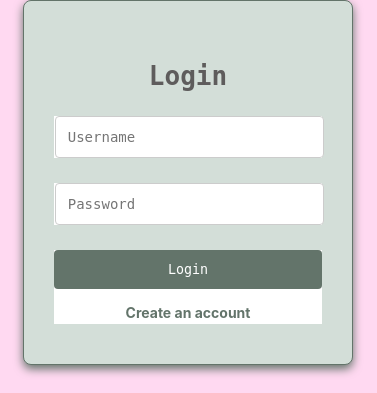
Test case: Login Component › shows username error when username is missing
The image size is (377, 393).
Step 1. Click the button "Login" → coordinates (188, 270), box [54, 250, 322, 289]
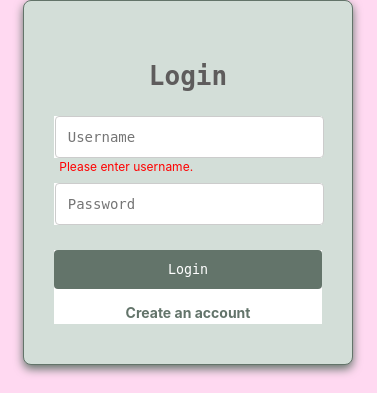
Expected: the text "Please enter username." is shown, [59, 159, 193, 174]
